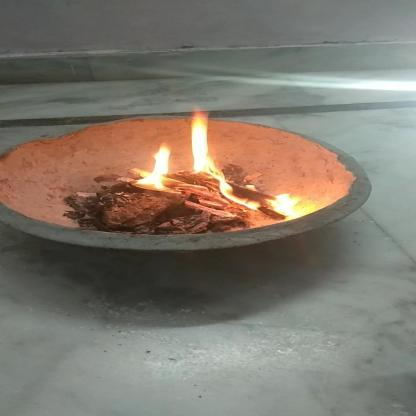fire: (184, 108, 251, 212), (128, 141, 178, 191), (262, 190, 315, 222)
